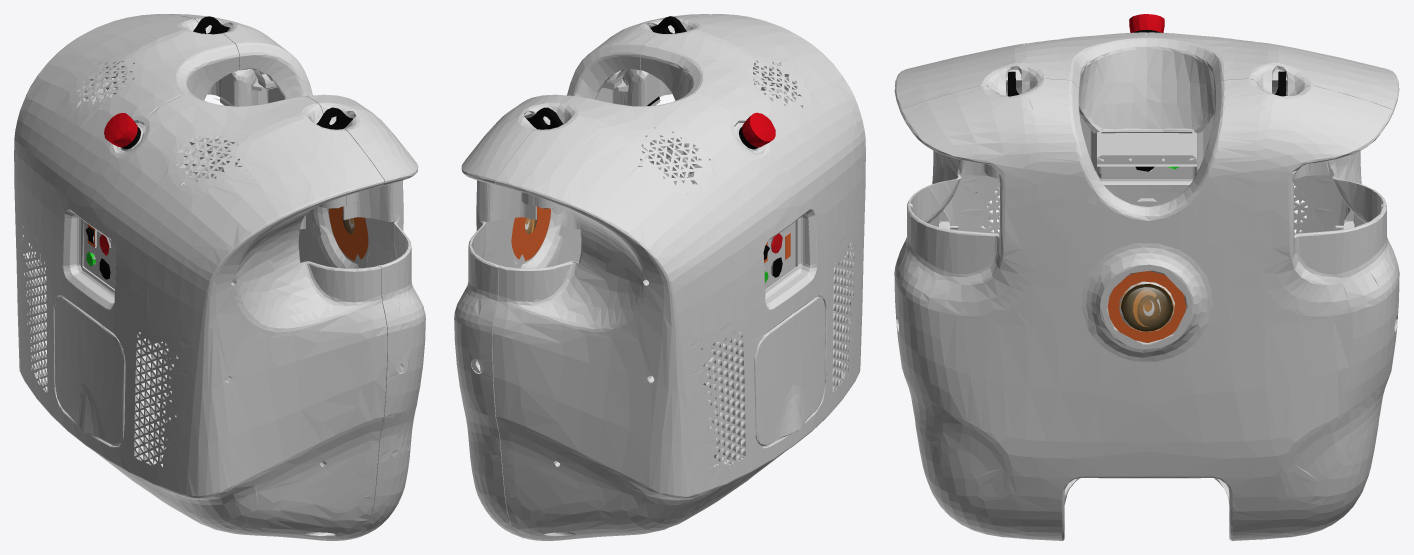
The model's file is torso_2.dae.
The picture shows the model from 3 angles, left to right: view 1: azimuth 30°, elevation 25°; view 2: azimuth 150°, elevation 25°; view 3: azimuth 270°, elevation 25°; orthographic projection. The views are drawn at different scales.
Parts seen in each view (by area): view 1: torso_2; view 2: torso_2; view 3: torso_2.
Part boxes in pixels (box(x1,y1,x2,y2)): torso_2: box(14, 14, 425, 540); torso_2: box(454, 14, 865, 540); torso_2: box(894, 14, 1399, 540).
Size of the model in its own units: 0.3054 by 0.4544 by 0.4581.
Materials: 8 (1 with a texture image).
